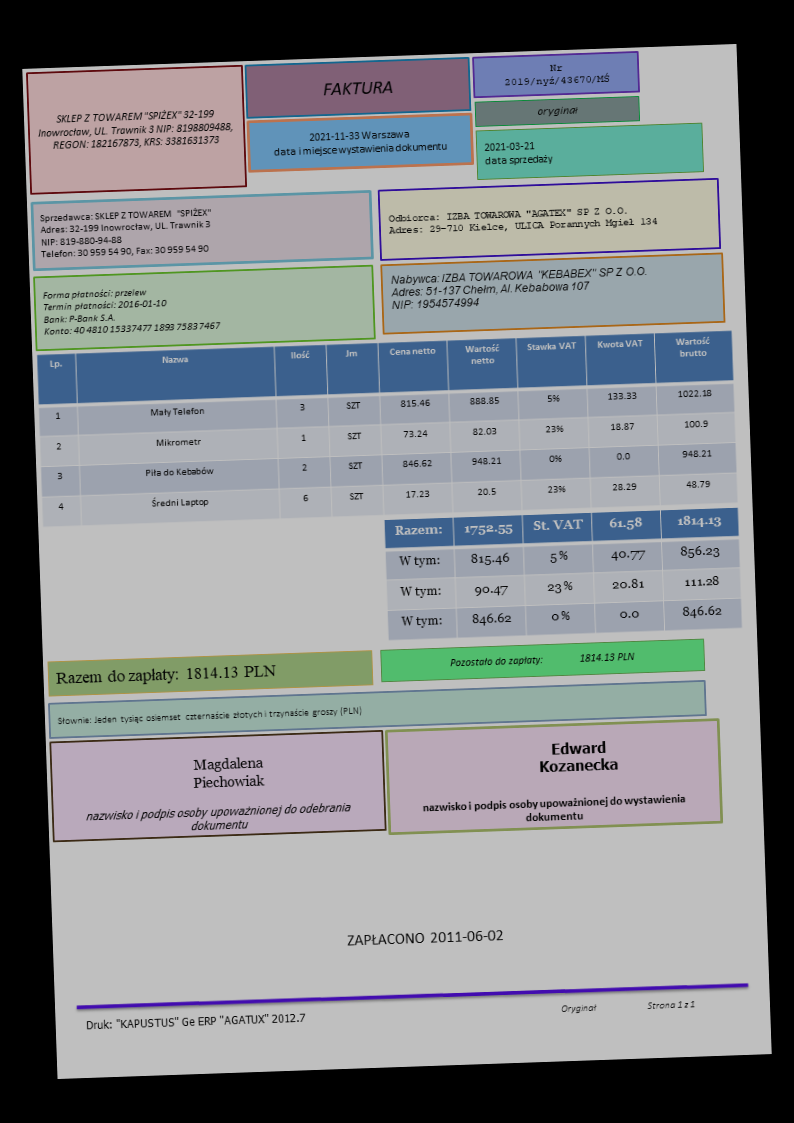Table: (33, 328, 740, 529), (382, 508, 745, 643)
TextBox: (385, 259, 654, 314), (419, 788, 691, 830), (385, 200, 662, 241), (39, 281, 223, 342), (81, 798, 356, 837), (52, 697, 367, 731), (36, 204, 214, 262), (33, 105, 238, 155), (50, 658, 276, 690), (80, 1007, 309, 1038), (269, 122, 450, 159), (342, 921, 510, 955), (446, 645, 640, 673), (535, 732, 622, 779), (501, 58, 614, 93), (189, 752, 267, 794), (556, 994, 698, 1017), (479, 134, 555, 173), (319, 75, 394, 100), (534, 103, 581, 120)
